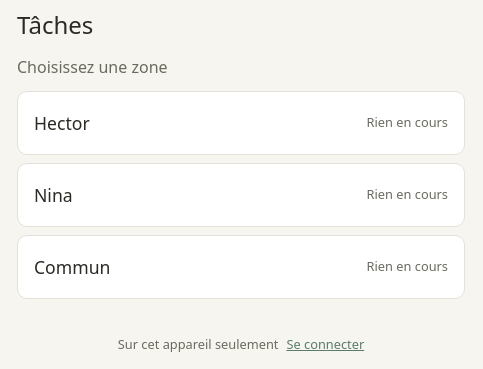
Test: App › deletes a todo
Click the button "Hector Rien en cours" at coordinates (62, 123), box [17, 91, 465, 155]
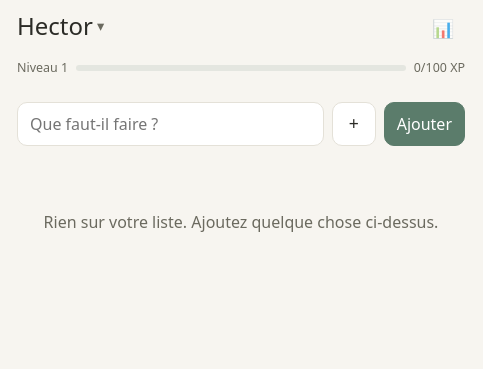
Type "Acheter du lait" into the field named "Nouvelle tâche" at coordinates (170, 124), box [17, 102, 324, 146]
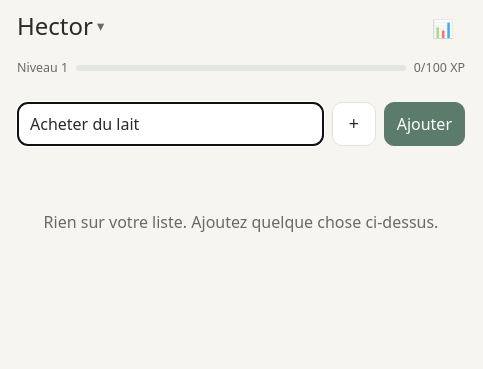
Click the button "Ajouter" at coordinates (424, 124), box [384, 102, 465, 146]
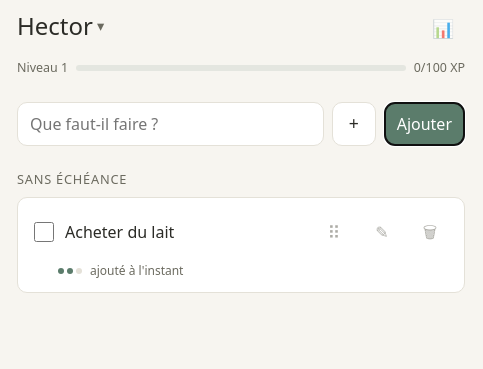
Click the button named "Supprimer Acheter du lait" at coordinates (430, 232), box [408, 210, 452, 254]
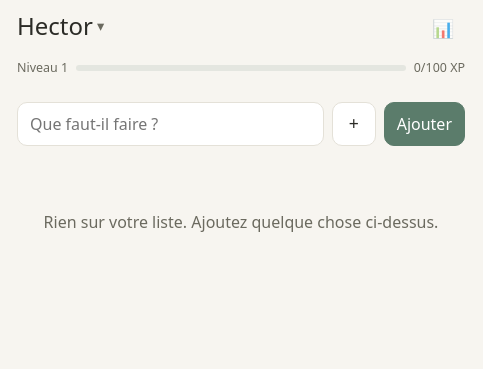
Result: the text "Acheter du lait" is gone
